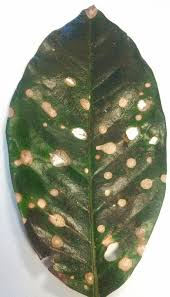ojo de gallo: (30, 61, 150, 277)
